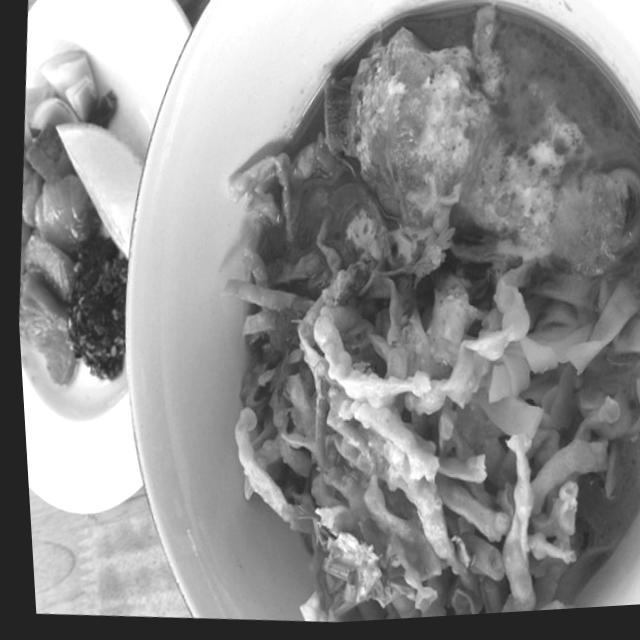面条主食: (117, 0, 640, 635)
